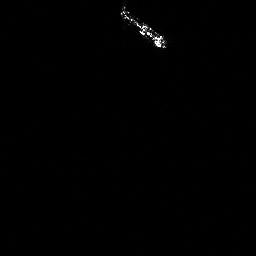ship: (119, 9, 166, 49)
